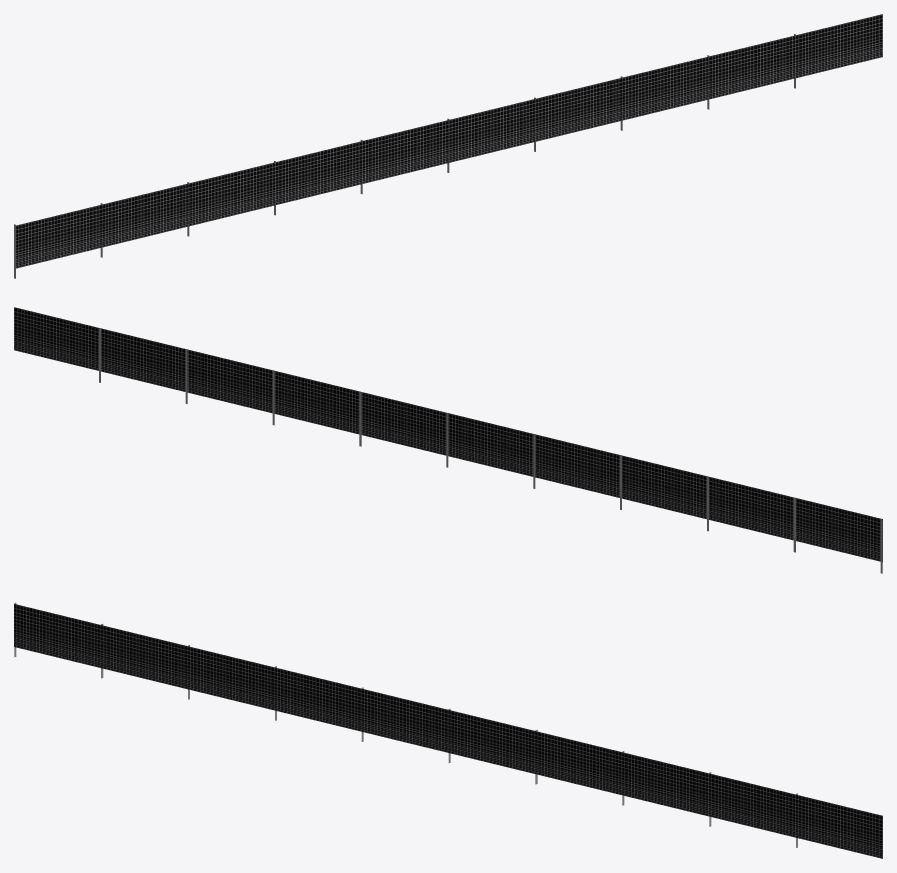
Rendered from fence-tall-mesh-10s-cbj_LOD01.gltf.
3 renders of one model, top to bottom at view 1: azimuth 30°, elevation 25°; view 2: azimuth 150°, elevation 25°; view 3: azimuth 330°, elevation 25°, orthographic.
Visible parts, largest first — view 1: Cube1; view 2: Cube1; view 3: Cube1.
Boxes of the visible parts, x1=… form: Cube1: x1=14, y1=14, x2=882, y2=278; Cube1: x1=14, y1=307, x2=882, y2=573; Cube1: x1=14, y1=602, x2=882, y2=858.
Size of what is drawn, in the model's own units: 39.06 by 2.33 by 0.0902.
